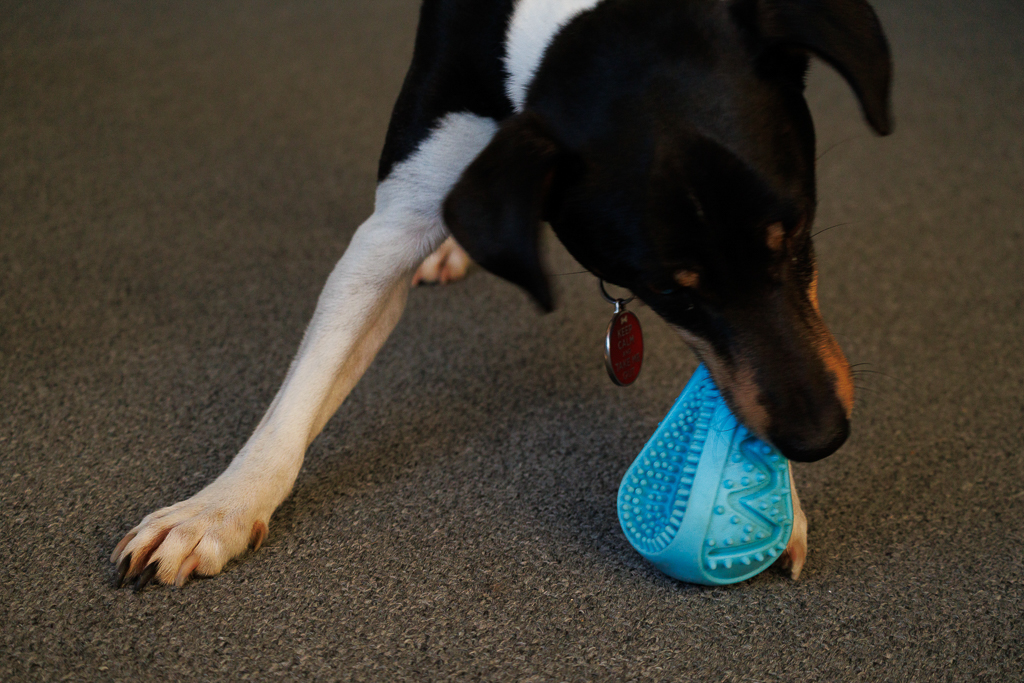Dog: (95, 0, 904, 602)
